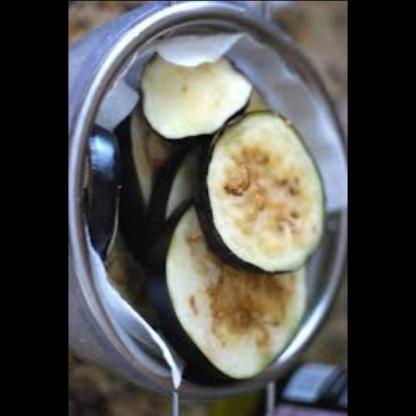eggplant: (141, 77, 331, 365)
